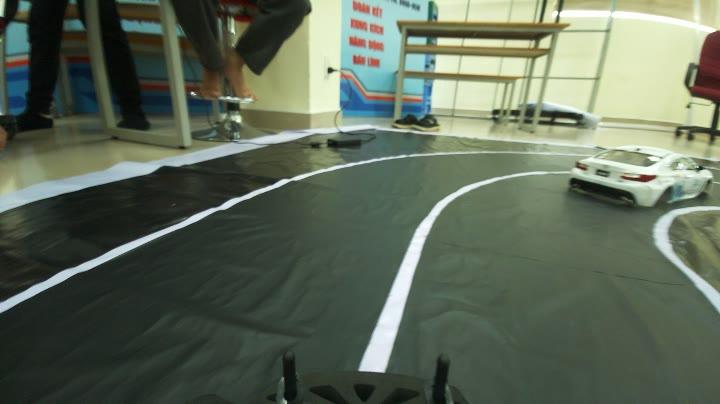car: (570, 137, 712, 215)
